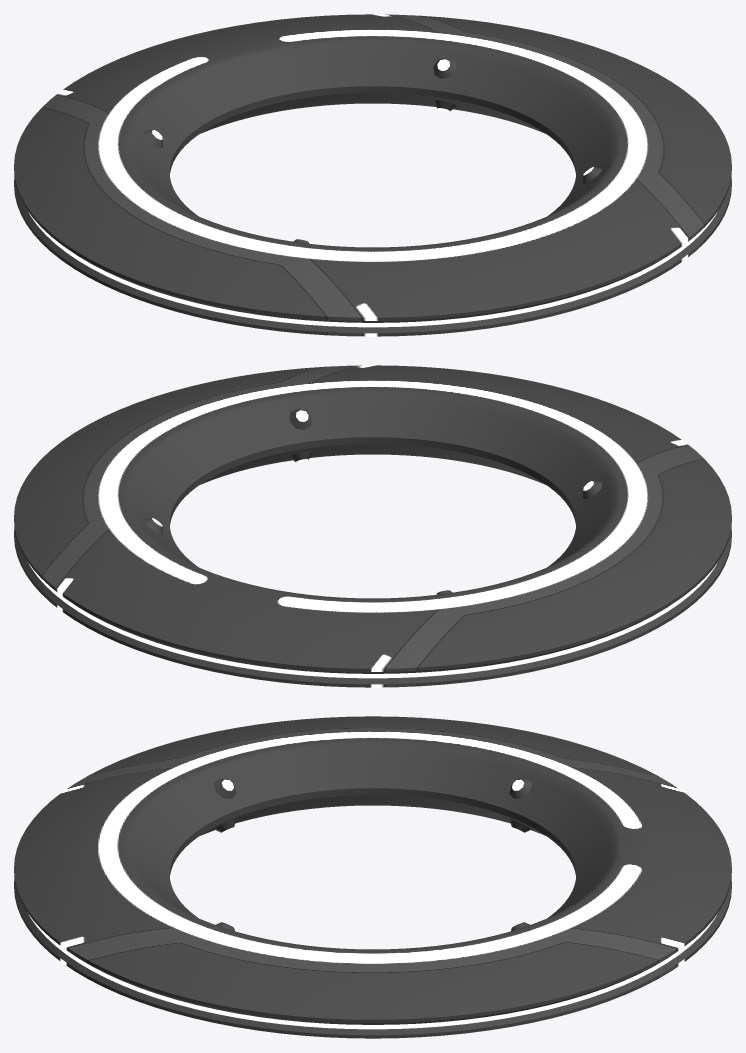
File: tron_legacy_identity_disc.glb
The picture shows the model from 3 angles, top to bottom: view 1: azimuth 30°, elevation 25°; view 2: azimuth 150°, elevation 25°; view 3: azimuth 270°, elevation 25°; orthographic projection.
Visible parts, largest first — view 1: Identity Disc; view 2: Identity Disc; view 3: Identity Disc.
Boxes of the visible parts, x1,y1,x2,y2 form: Identity Disc: (14,14,731,336); Identity Disc: (14,365,731,687); Identity Disc: (14,716,731,1038).
Bounding box in the file's own units: 2.33 × 0.2272 × 2.33.
1 material, 1 textured.
